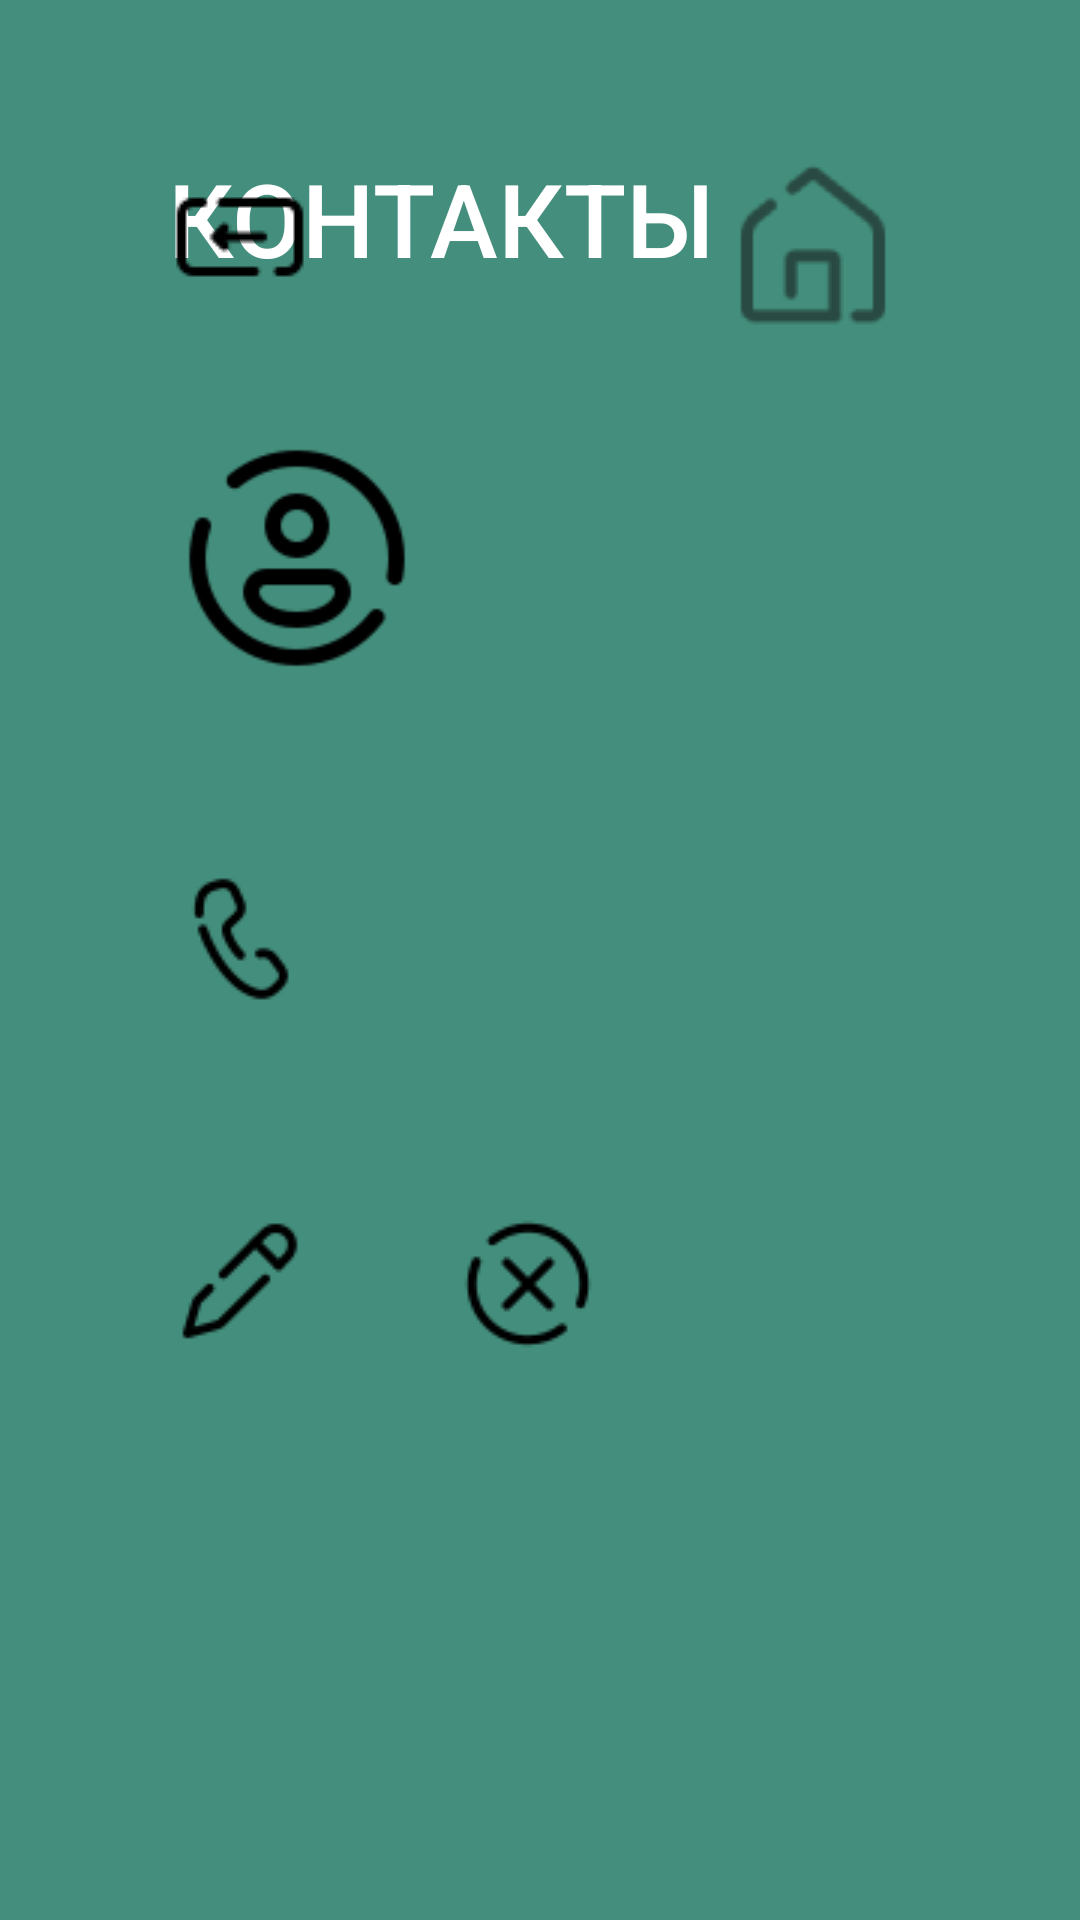

Named icons in this screenshot (1080*1920) and their centers, (x,y):
cancel: (528,1283)
edit: (240,1281)
home: (813,245)
male user: (297,558)
phone: (241,939)
